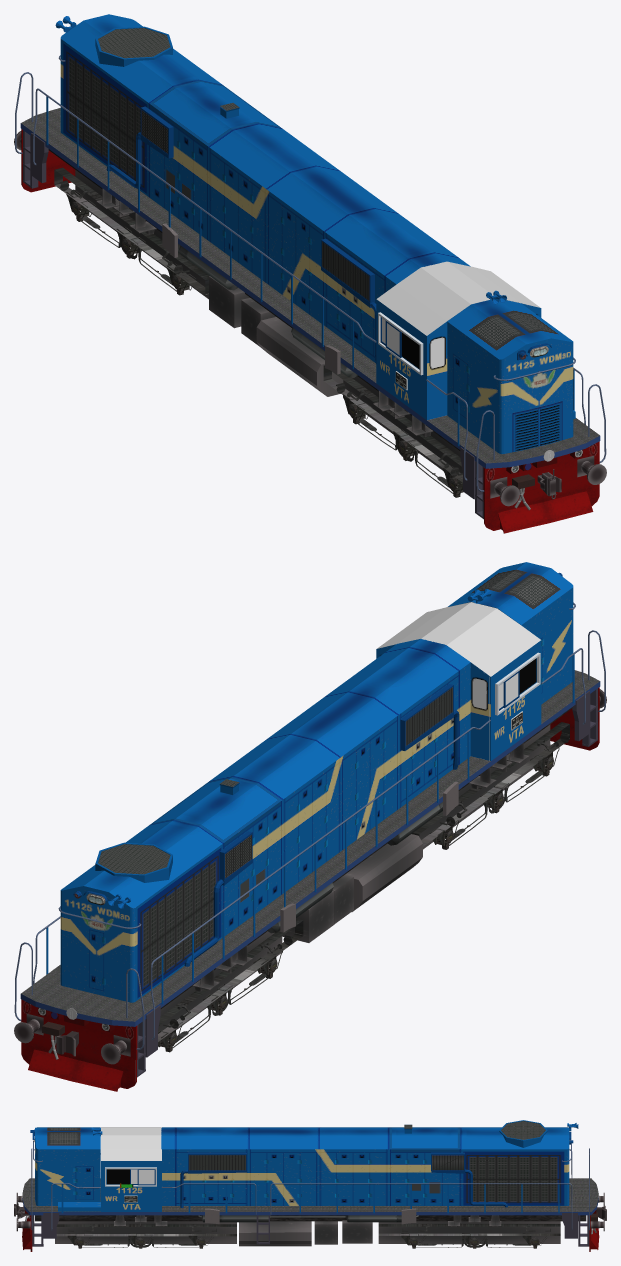
The model's file is loco_wdm3d_std.glb.
3 views of the same model, one above another, from view 1: azimuth 30°, elevation 25°; view 2: azimuth 150°, elevation 25°; view 3: azimuth 270°, elevation 25° (orthographic). The views are drawn at different scales.
Parts seen in each view (by area): view 1: wdm3d_vta_11125.glb; view 2: wdm3d_vta_11125.glb; view 3: wdm3d_vta_11125.glb.
Part boxes in pixels (left/top/right/bottom): wdm3d_vta_11125.glb: left=14, top=14, right=606, bottom=533; wdm3d_vta_11125.glb: left=14, top=562, right=606, bottom=1091; wdm3d_vta_11125.glb: left=14, top=1120, right=606, bottom=1251.
Bounding box in the file's own units: 3.22 × 4.17 × 20.06.
4 materials, 4 textured.
